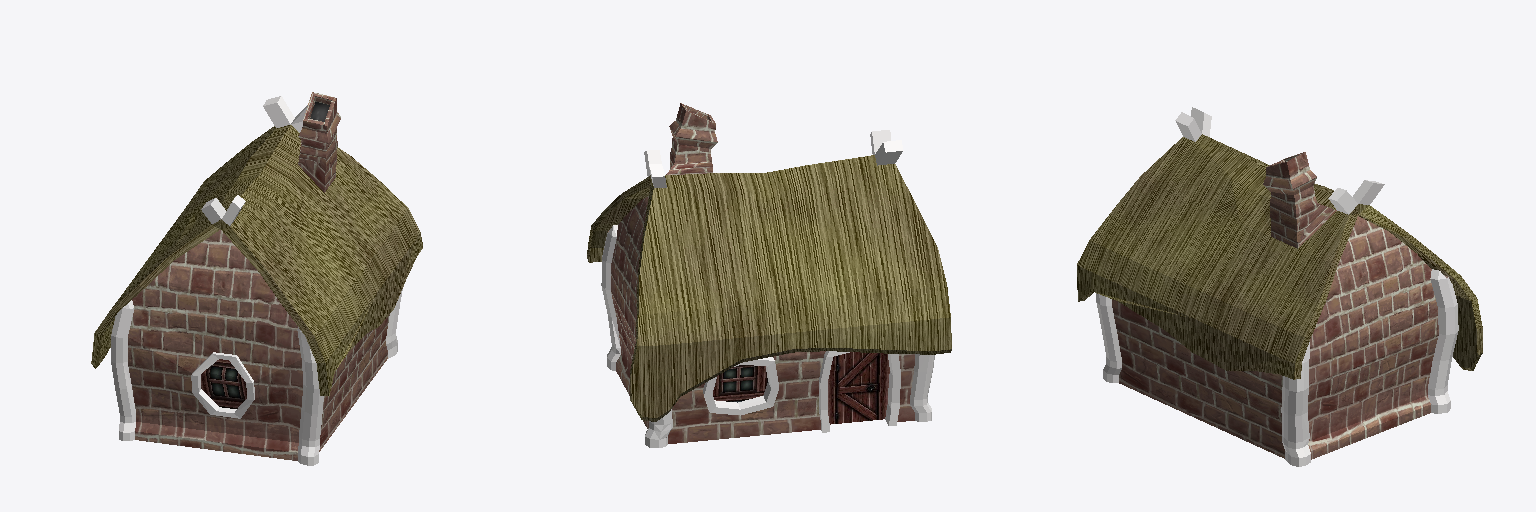
The picture shows the model from 3 angles: view 1: azimuth 30°, elevation 25°; view 2: azimuth 150°, elevation 25°; view 3: azimuth 270°, elevation 25°; orthographic projection.
Parts seen in each view (by area): view 1: house2_ca; view 2: house2_ca; view 3: house2_ca.
Part boxes in pixels (x1,y1,x2,y2): house2_ca: (91,92,422,465); house2_ca: (587,103,951,447); house2_ca: (1077,107,1482,466).
Size of the model in its own units: 14.62 by 11.04 by 14.76.
7 materials, 5 textured.